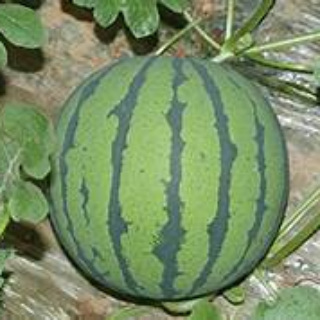dua_hau: (50, 51, 288, 303)
